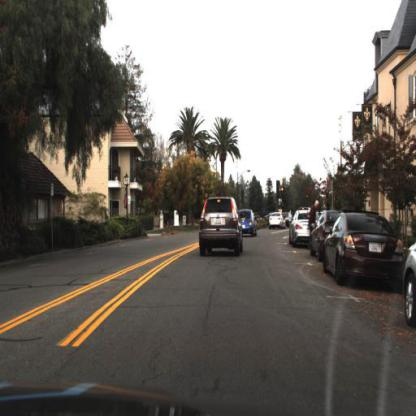car: (322, 211, 406, 295), (322, 211, 407, 286), (197, 196, 244, 256), (309, 208, 343, 263), (289, 208, 318, 246), (237, 209, 258, 239), (269, 210, 287, 230)
pedestrian: (308, 198, 322, 241)
